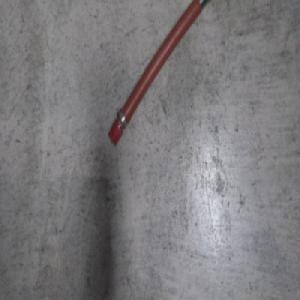Hose: (107, 0, 214, 148)
